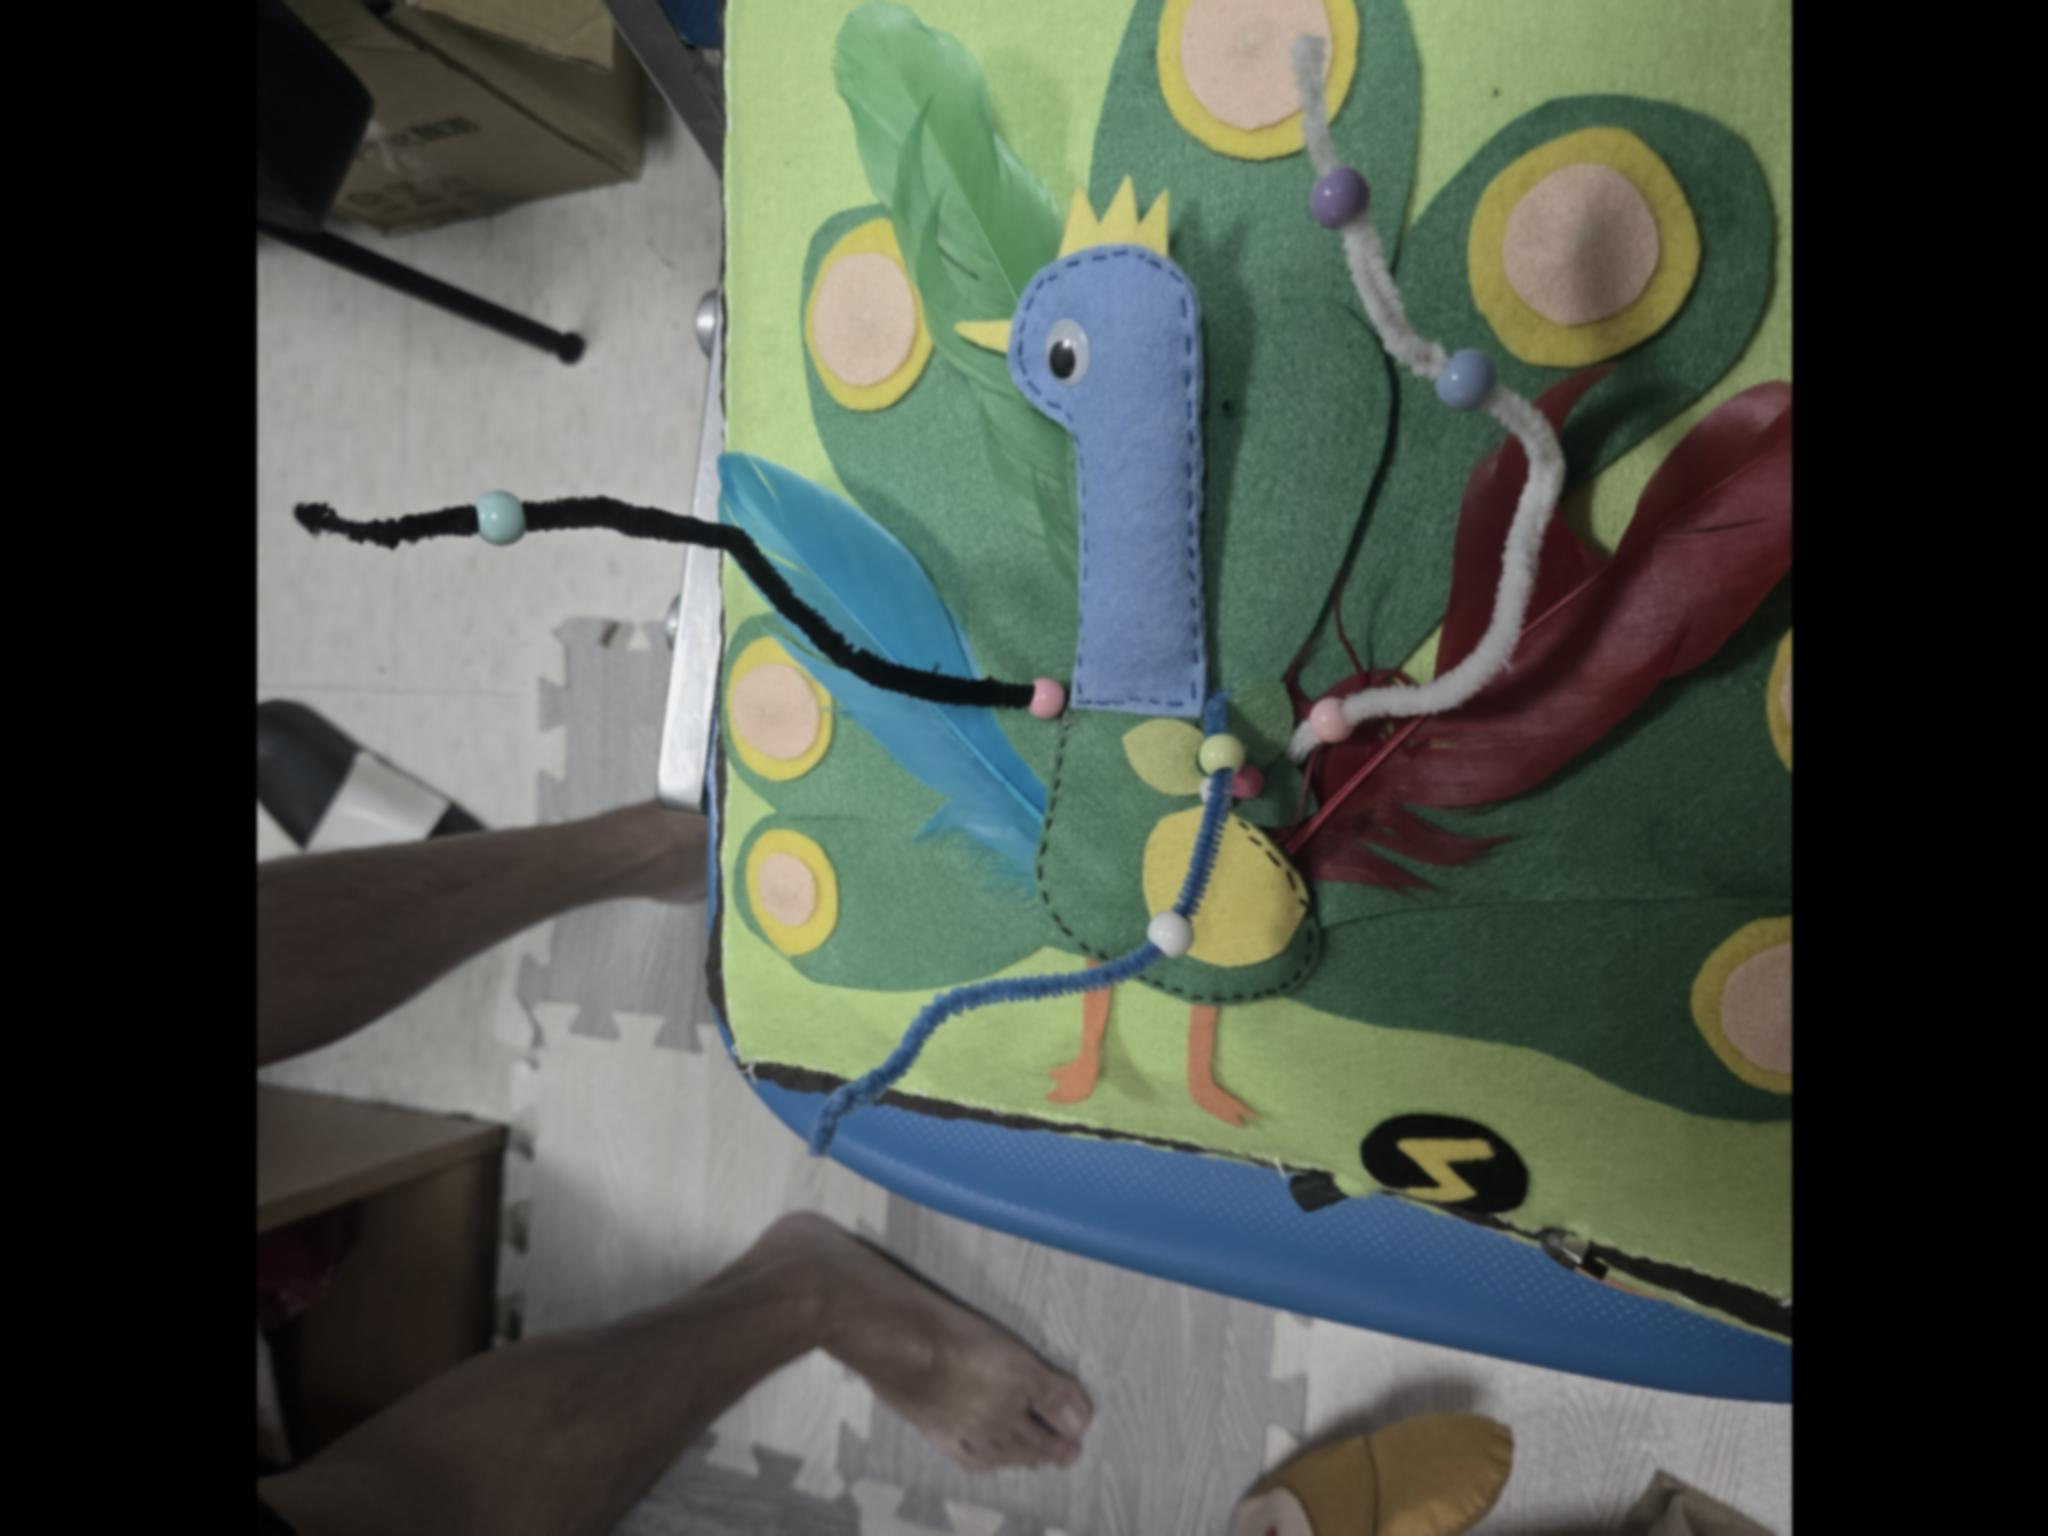bead: (1306, 166, 1371, 236), (1432, 345, 1492, 419), (1148, 900, 1195, 973), (472, 487, 524, 542), (1024, 668, 1068, 726), (1306, 697, 1351, 747), (1197, 737, 1247, 773)
